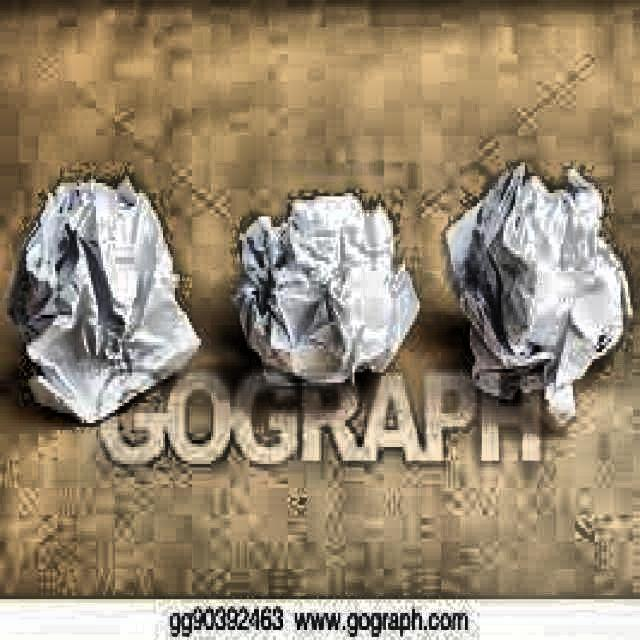Paper: (3, 173, 202, 423), (444, 159, 631, 420), (230, 186, 420, 386)
